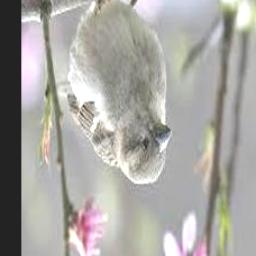Sparrow: (56, 0, 173, 186)
